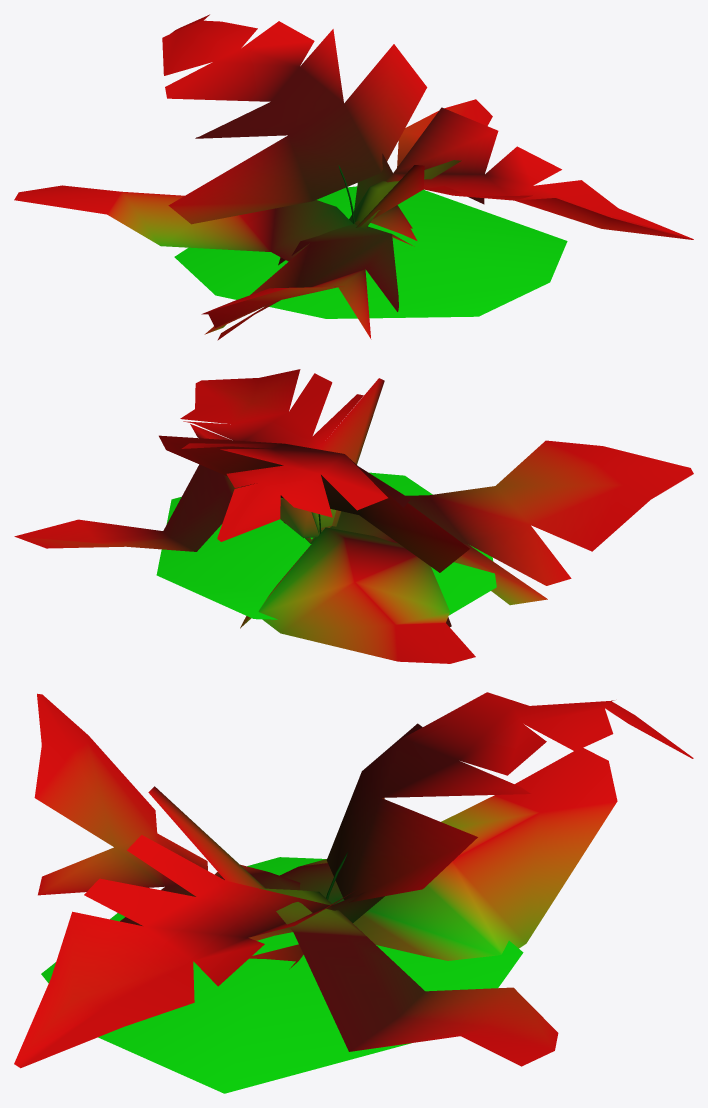
The model's file is Bracken Fern_LOD0_Var5_seEoW.fbx.
The picture shows the model from 3 angles, top to bottom: view 1: azimuth 30°, elevation 25°; view 2: azimuth 150°, elevation 25°; view 3: azimuth 270°, elevation 25°; orthographic projection. The views are drawn at different scales.
Parts seen in each view (by area): view 1: _e51q_Var5_LOD0; view 2: _e51q_Var5_LOD0; view 3: _e51q_Var5_LOD0.
Part boxes in pixels (box(x1,y1,x2,y2)): _e51q_Var5_LOD0: box(14, 14, 693, 340); _e51q_Var5_LOD0: box(14, 369, 693, 663); _e51q_Var5_LOD0: box(14, 692, 693, 1093).
Bounding box in the file's own units: 152 × 61.61 × 136.
